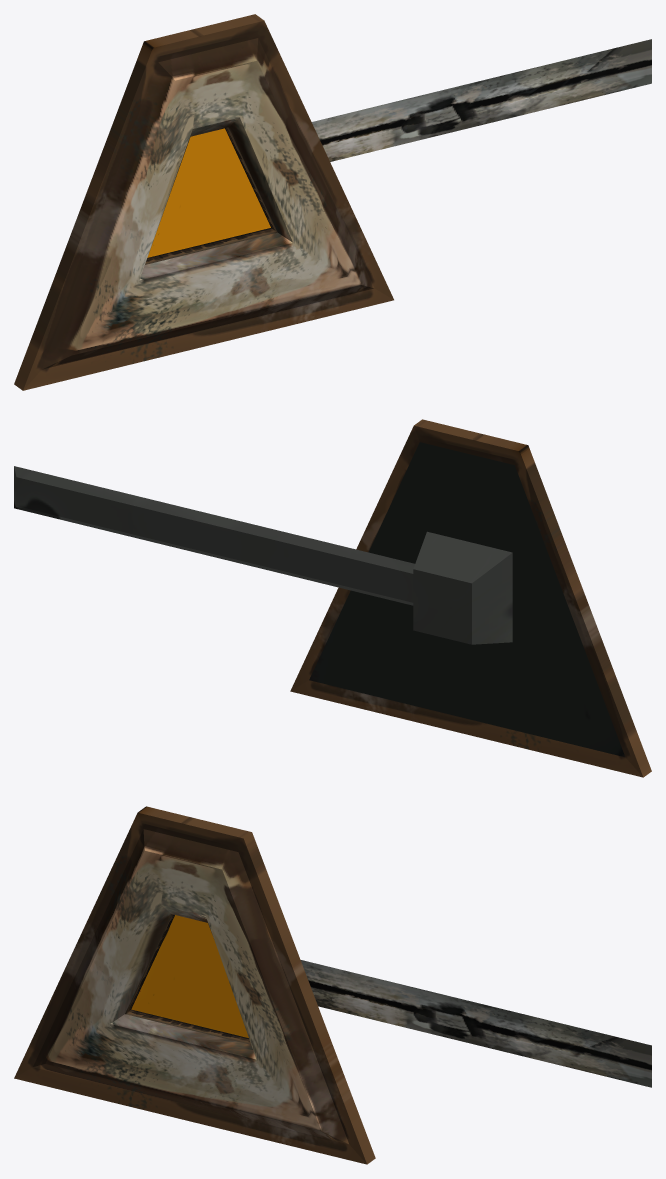
Rendered from Props_appareildentaire.fbx.
3 views of the same model, one above another, from view 1: azimuth 30°, elevation 25°; view 2: azimuth 150°, elevation 25°; view 3: azimuth 330°, elevation 25° (orthographic). The views are drawn at different scales.
Visible parts, largest first — view 1: Props_Sign_wall; view 2: Props_Sign_wall; view 3: Props_Sign_wall.
Part boxes in pixels (left/top/right/bottom): Props_Sign_wall: left=14, top=14, right=651, bottom=390; Props_Sign_wall: left=14, top=419, right=651, bottom=777; Props_Sign_wall: left=14, top=806, right=651, bottom=1164.
Bounding box in the file's own units: 4.78 × 2.19 × 0.5729.
